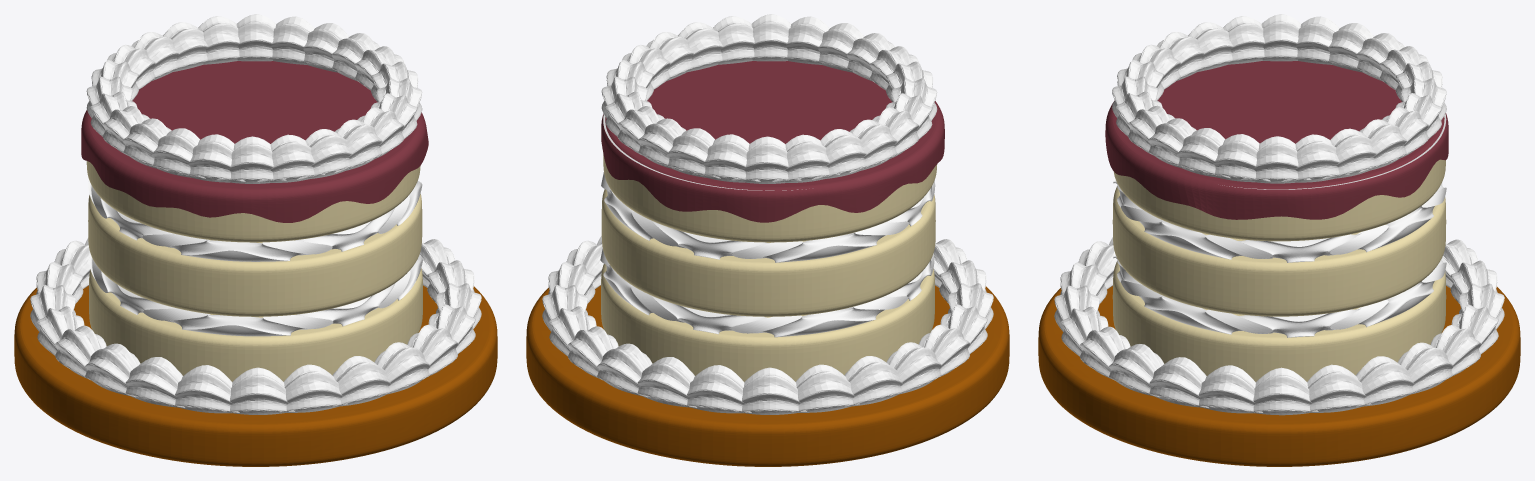
Rendered from tempcake3.glb.
3 views of the same model, side by side, from view 1: azimuth 30°, elevation 25°; view 2: azimuth 150°, elevation 25°; view 3: azimuth 270°, elevation 25° (orthographic).
Parts seen in each view (by area): view 1: base, icing, layer2, layer1, layer3, Torus, Torus.001, Star.006, Star.005, Star.007, Star.004, Star.008 (+36 smaller); view 2: base, icing, layer2, layer1, layer3, Torus, Torus.001, Star.022, Star.021, Star.023, Star.020, Star.024 (+36 smaller); view 3: base, icing, layer2, layer1, layer3, Torus.001, Torus, Star.014, Star.013, Star.015, Star.012, Star.016 (+36 smaller).
Part boxes in pixels (box(x1,y1,x2,y2)): base: box(14, 285, 497, 466); icing: box(81, 61, 428, 222); layer2: box(88, 194, 422, 316); layer1: box(89, 268, 422, 381); layer3: box(86, 161, 420, 242); Torus: box(89, 252, 422, 336); Torus.001: box(88, 179, 422, 261); Star.006: box(222, 367, 295, 414); Star.005: box(169, 365, 239, 413); Star.007: box(278, 364, 347, 412); Star.004: box(125, 357, 185, 408); Star.008: box(332, 356, 394, 406); base: box(526, 285, 1009, 466); icing: box(601, 61, 944, 222); layer2: box(601, 189, 935, 316); layer1: box(601, 264, 934, 381); layer3: box(603, 154, 937, 242); Torus: box(600, 249, 934, 337); Torus.001: box(601, 172, 935, 262); Star.022: box(734, 367, 807, 414); Star.021: box(681, 365, 751, 413); Star.023: box(790, 364, 859, 412); Star.020: box(637, 357, 697, 408); Star.024: box(844, 356, 906, 406); base: box(1038, 286, 1520, 466); icing: box(1105, 61, 1448, 219); layer2: box(1112, 186, 1446, 316); layer1: box(1112, 261, 1446, 381); layer3: box(1113, 159, 1445, 241); Torus.001: box(1113, 176, 1446, 262); Torus: box(1113, 251, 1446, 337); Star.014: box(1246, 367, 1318, 415); Star.013: box(1193, 365, 1263, 413); Star.015: box(1301, 364, 1371, 412); Star.012: box(1149, 357, 1209, 408); Star.016: box(1355, 356, 1417, 406).
Bounding box in the file's own units: 1.99 × 1.31 × 1.99.
